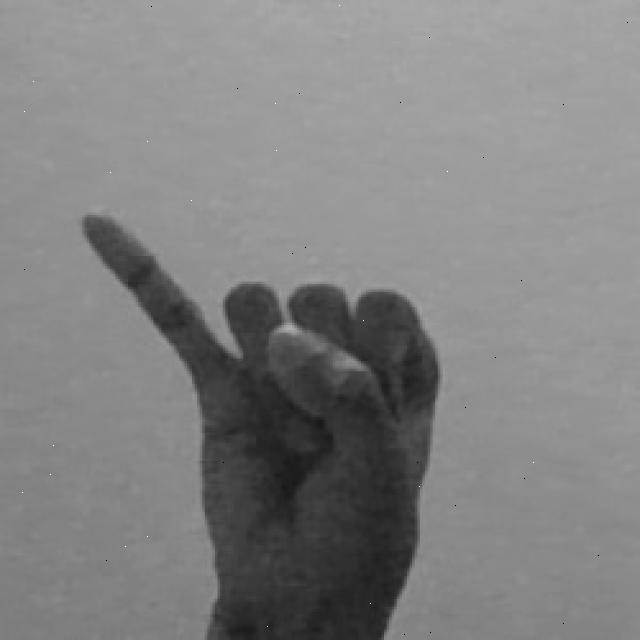I: (80, 210, 446, 640)
